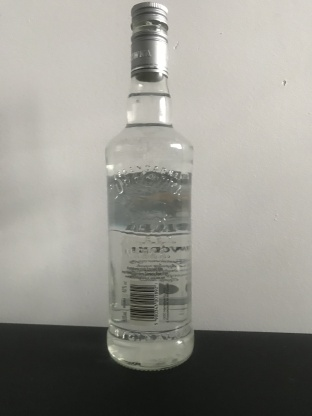nakretka: (129, 0, 169, 82)
